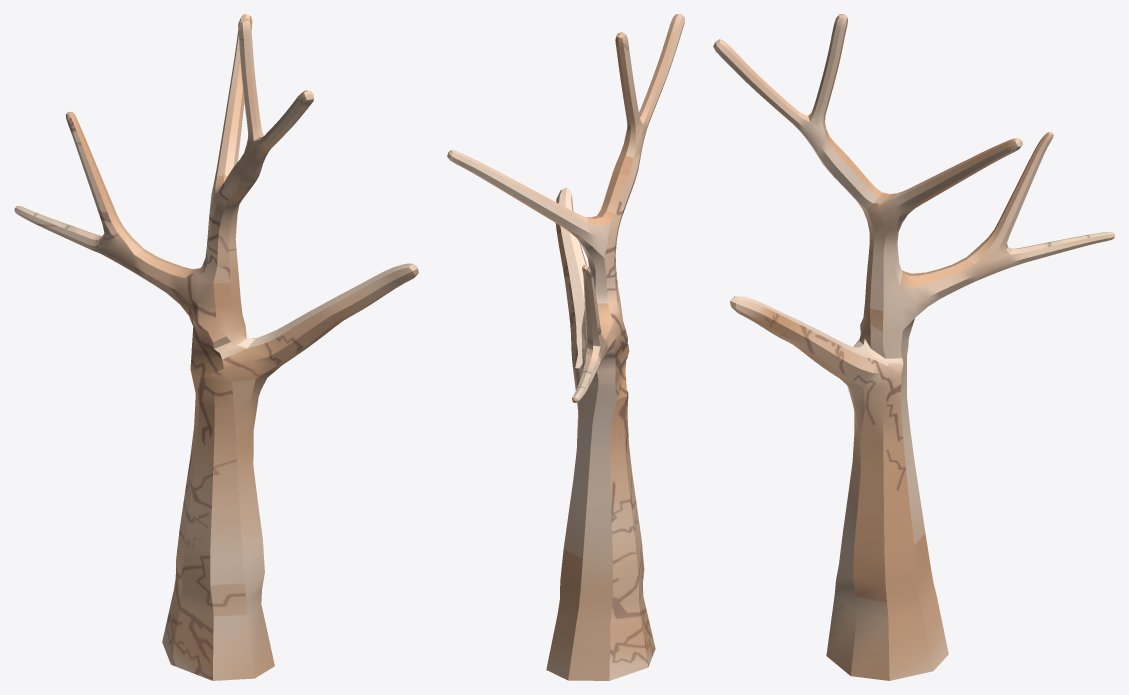
The picture shows the model from 3 angles, left to right: view 1: azimuth 30°, elevation 25°; view 2: azimuth 150°, elevation 25°; view 3: azimuth 270°, elevation 25°; orthographic projection. The views are drawn at different scales.
Visible parts, largest first — view 1: 枯木; view 2: 枯木; view 3: 枯木.
Boxes of the visible parts, x1,y1,x2,y2 form: 枯木: (14, 14, 418, 680); 枯木: (447, 14, 684, 680); 枯木: (713, 14, 1114, 680).
Bounding box in the file's own units: 280 × 835 × 469.
